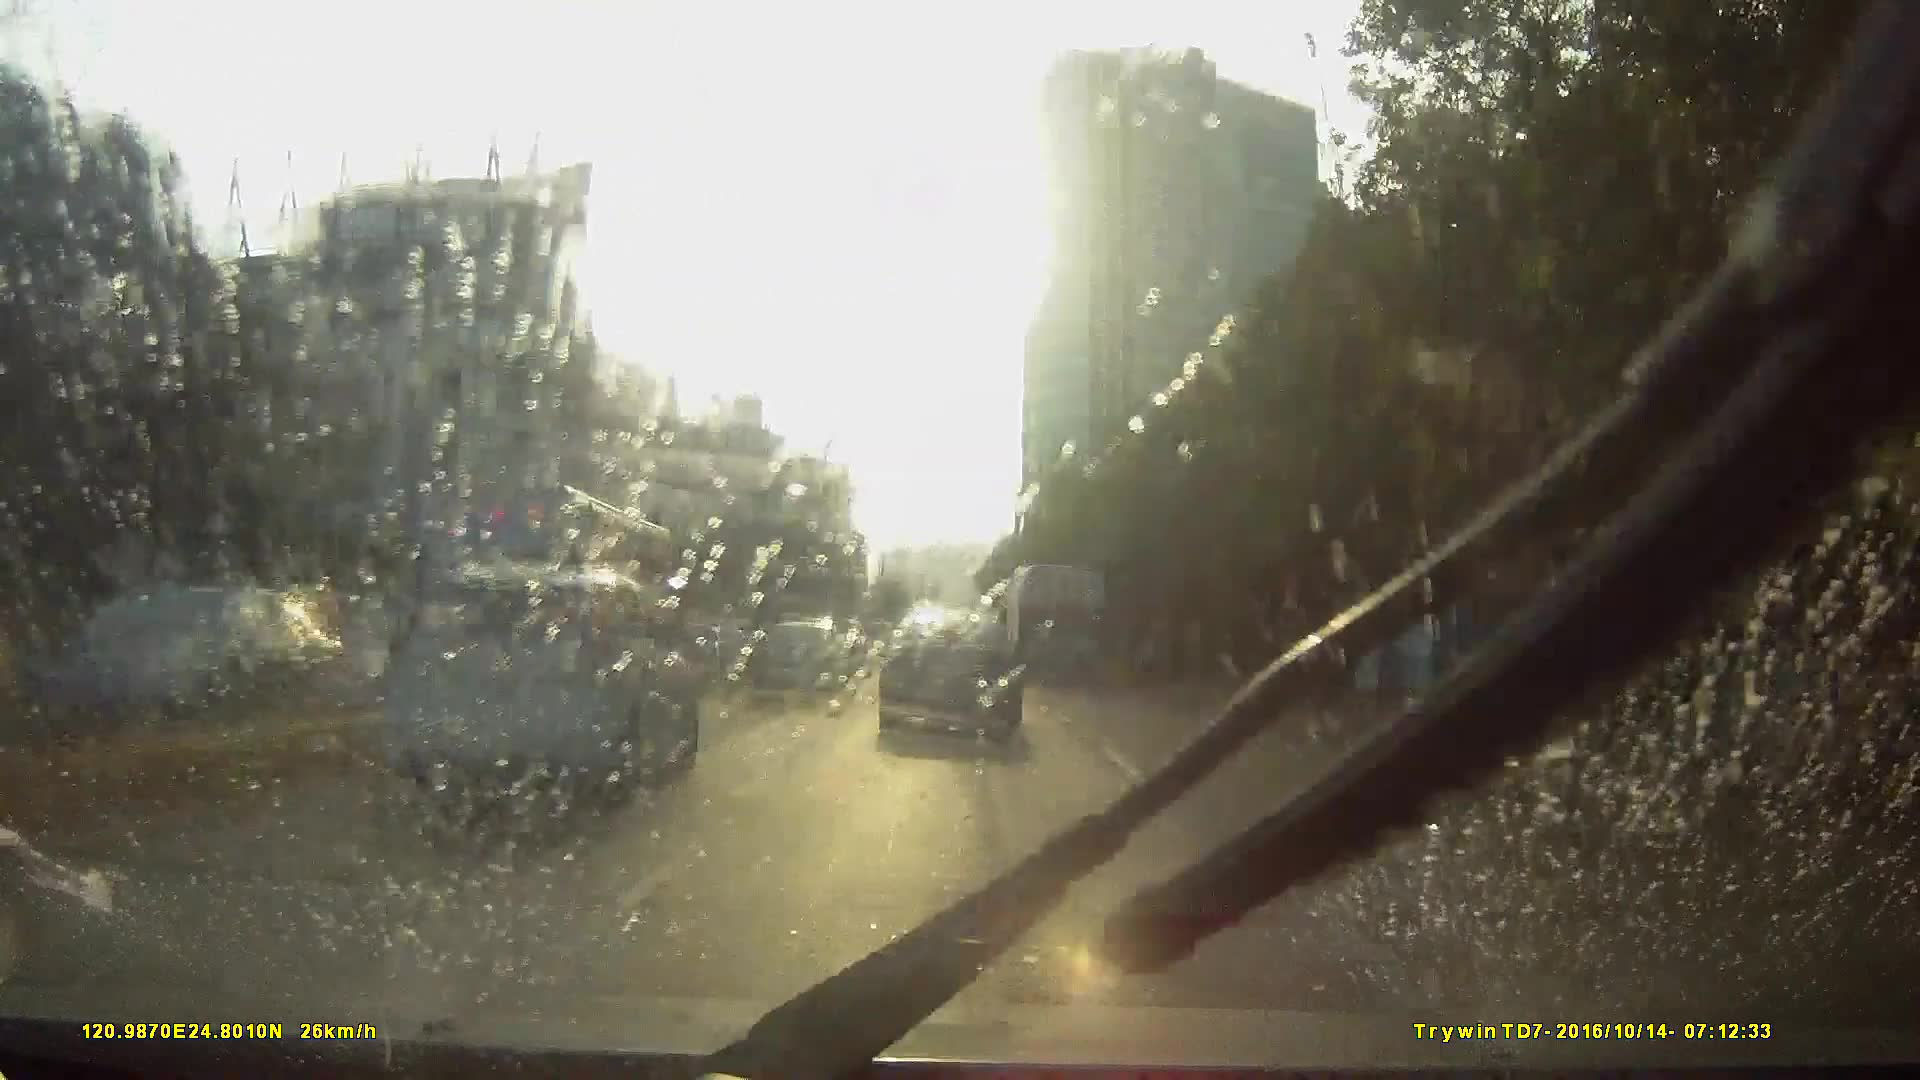vehicle: (251, 556, 684, 868), (392, 553, 702, 793), (386, 475, 711, 698), (880, 603, 1021, 752), (1000, 560, 1105, 686), (740, 616, 849, 702), (866, 638, 915, 687)
